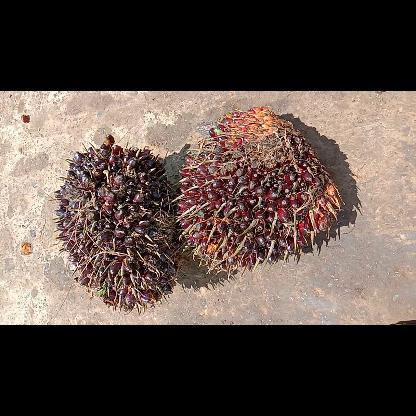TBS mentah: (172, 105, 344, 269), (53, 134, 178, 310)
